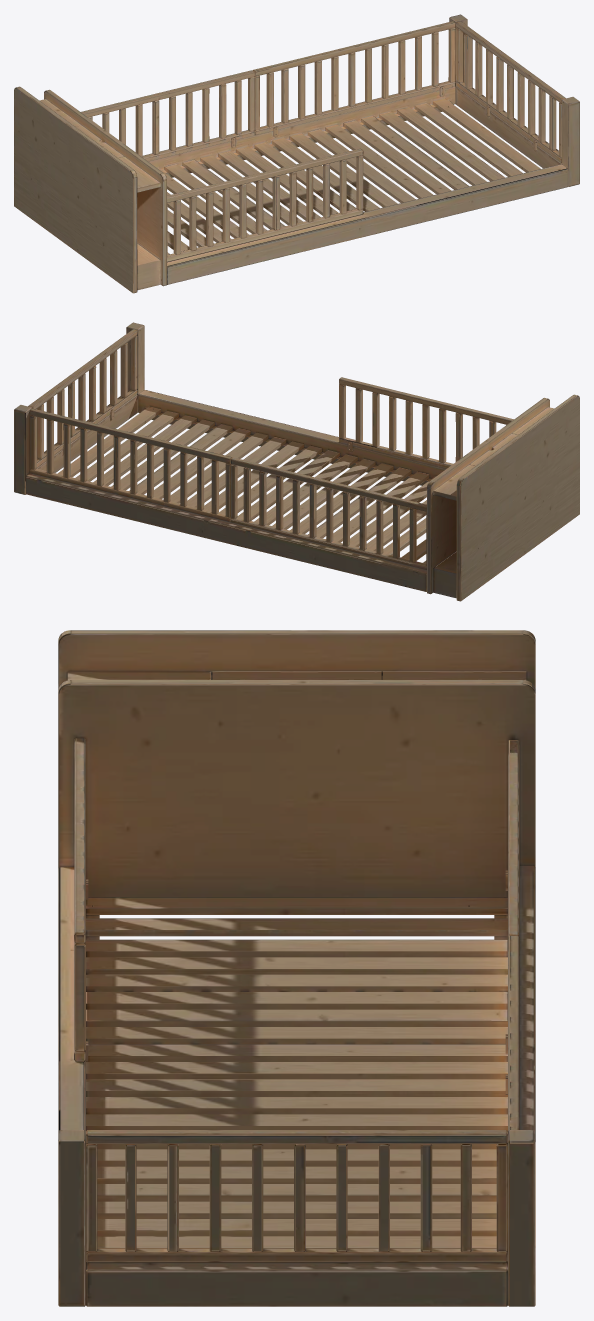
3 renders of one model, top to bottom at view 1: azimuth 30°, elevation 25°; view 2: azimuth 150°, elevation 25°; view 3: azimuth 270°, elevation 25°, orthographic. The views are drawn at different scales.
Parts seen in each view (by area): view 1: 200x90; view 2: 200x90; view 3: 200x90.
Boxes of the visible parts, bbox=[...] form: 200x90: bbox=[14, 14, 579, 293]; 200x90: bbox=[14, 322, 579, 601]; 200x90: bbox=[58, 630, 535, 1306].
Bounding box in the file's own units: 2.25 × 0.5799 × 1.04.
Materials: 1 (1 with a texture image).
